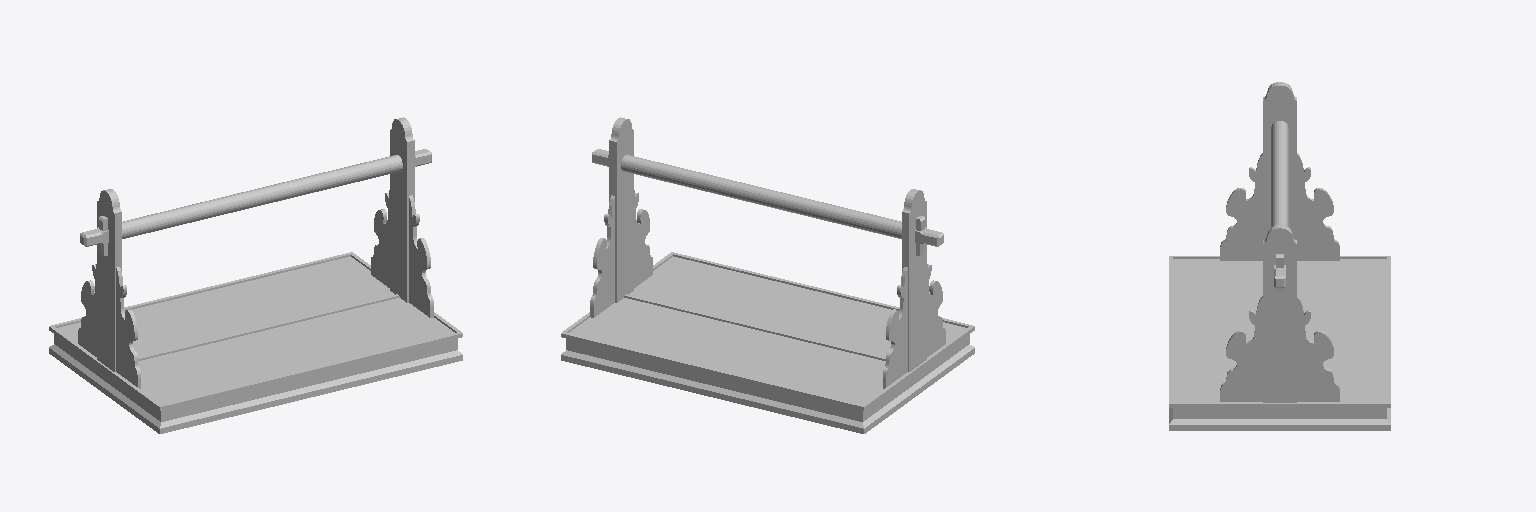
File: WheelBase.obj
The picture shows the model from 3 angles: view 1: azimuth 30°, elevation 25°; view 2: azimuth 150°, elevation 25°; view 3: azimuth 270°, elevation 25°; orthographic projection.
Visible parts, largest first — view 1: entity0_brush34, entity0_brush32, entity0_brush36, entity0_brush20, entity0_brush37, entity0_brush29, entity0_brush28, entity0_brush35, entity0_brush33, entity0_brush31, entity0_brush39; view 2: entity0_brush32, entity0_brush34, entity0_brush36, entity0_brush20, entity0_brush37, entity0_brush29, entity0_brush28, entity0_brush31, entity0_brush33, entity0_brush35, entity0_brush39; view 3: entity0_brush32, entity0_brush34, entity0_brush29, entity0_brush36, entity0_brush28, entity0_brush37, entity0_brush20, entity0_brush38, entity0_brush31, entity0_brush35.
Part boxes in pixels (bbox=[...]): entity0_brush34: bbox=[138, 298, 454, 404]; entity0_brush32: bbox=[57, 256, 394, 356]; entity0_brush36: bbox=[49, 344, 462, 433]; entity0_brush20: bbox=[122, 155, 402, 238]; entity0_brush37: bbox=[54, 334, 457, 421]; entity0_brush29: bbox=[390, 130, 414, 302]; entity0_brush28: bbox=[97, 201, 121, 371]; entity0_brush35: bbox=[158, 332, 462, 410]; entity0_brush33: bbox=[138, 294, 399, 360]; entity0_brush31: bbox=[49, 252, 353, 330]; entity0_brush39: bbox=[51, 327, 160, 409]; entity0_brush32: bbox=[569, 298, 885, 404]; entity0_brush34: bbox=[629, 256, 966, 356]; entity0_brush36: bbox=[561, 344, 974, 433]; entity0_brush20: bbox=[621, 155, 901, 238]; entity0_brush37: bbox=[566, 334, 969, 421]; entity0_brush29: bbox=[609, 130, 633, 302]; entity0_brush28: bbox=[902, 201, 926, 371]; entity0_brush31: bbox=[561, 332, 865, 410]; entity0_brush33: bbox=[624, 294, 885, 360]; entity0_brush35: bbox=[670, 252, 974, 330]; entity0_brush39: bbox=[863, 327, 972, 409]; entity0_brush32: bbox=[1297, 259, 1386, 401]; entity0_brush34: bbox=[1173, 259, 1262, 401]; entity0_brush29: bbox=[1263, 244, 1296, 402]; entity0_brush36: bbox=[1169, 408, 1390, 430]; entity0_brush28: bbox=[1263, 101, 1296, 239]; entity0_brush37: bbox=[1173, 408, 1386, 418]; entity0_brush20: bbox=[1271, 121, 1288, 226]; entity0_brush38: bbox=[1173, 402, 1386, 407]; entity0_brush31: bbox=[1387, 256, 1390, 407]; entity0_brush35: bbox=[1169, 256, 1172, 407].
Bounding box in the file's own units: 188 × 104 × 104.